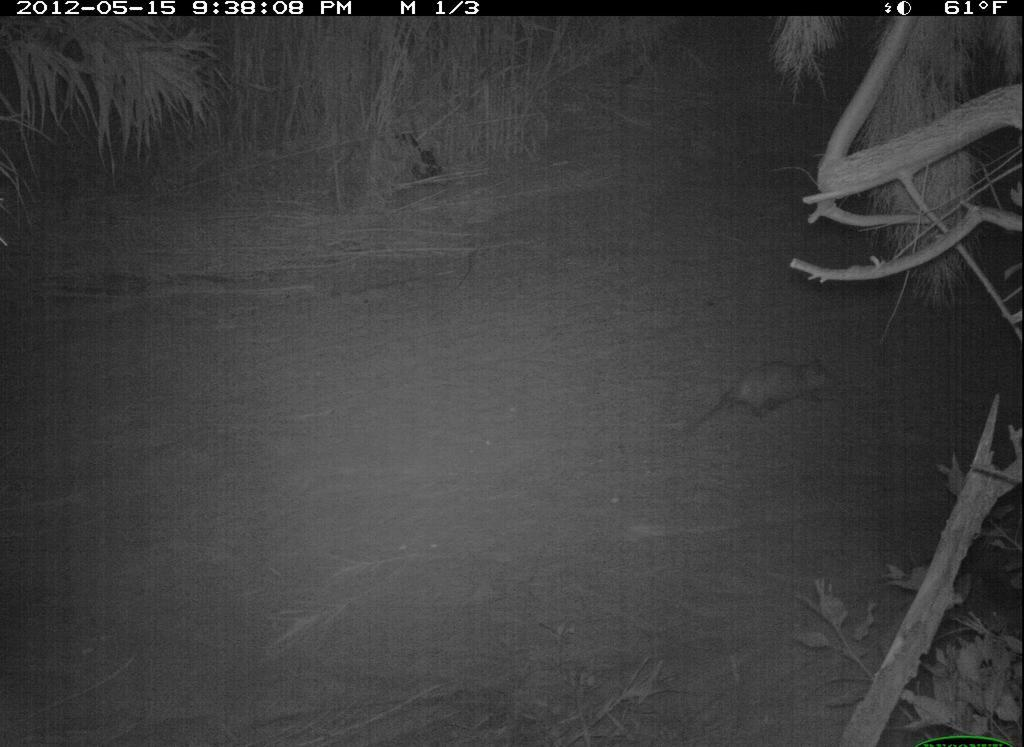opossum: (671, 350, 847, 438)
